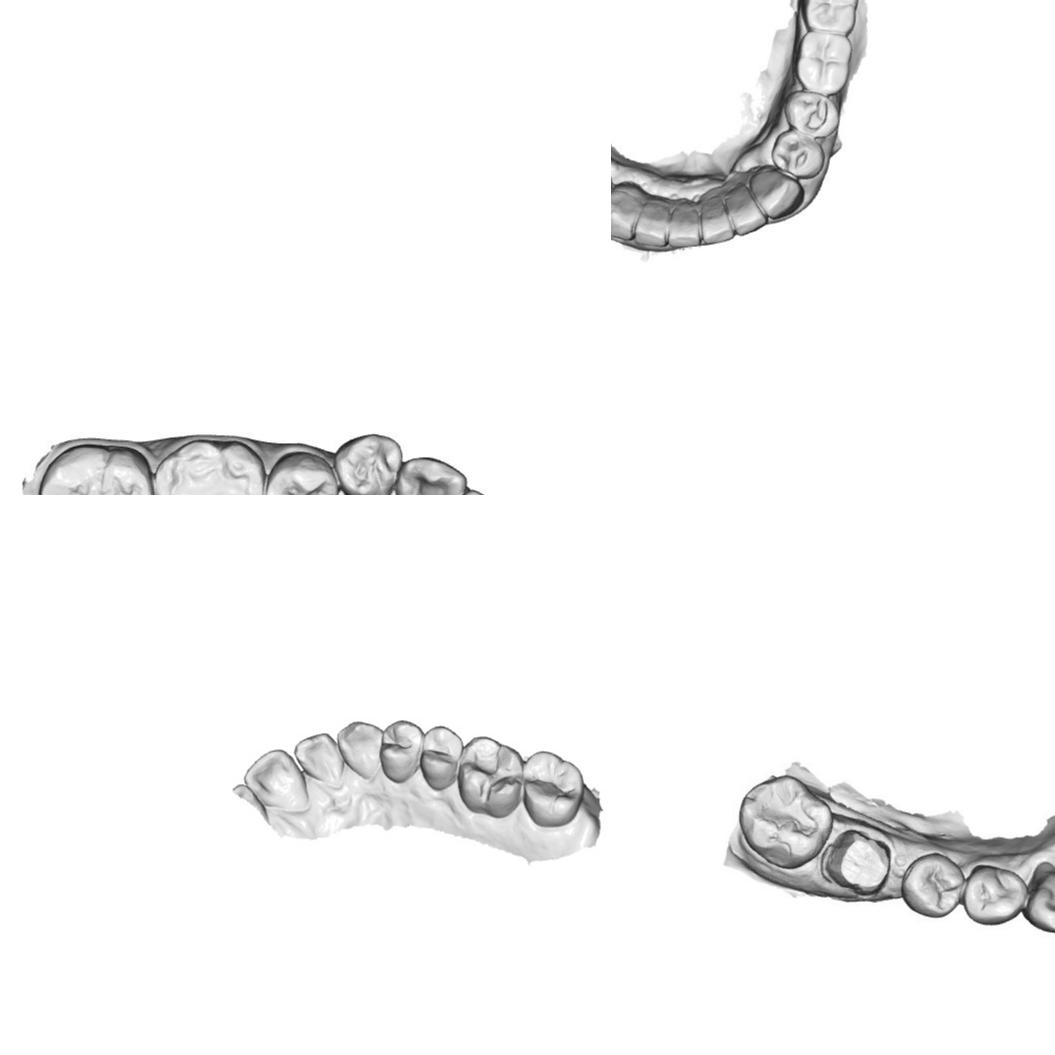canine: (334, 720, 384, 781), (749, 166, 804, 221), (395, 455, 459, 495), (611, 181, 645, 241), (1031, 861, 1055, 939)
crown: (819, 824, 891, 902)
incisor: (242, 746, 310, 812), (292, 732, 342, 786), (725, 186, 768, 236), (665, 199, 705, 251), (699, 192, 735, 246), (633, 199, 670, 249)
molar: (743, 779, 827, 866), (152, 438, 265, 495), (40, 444, 156, 495), (456, 734, 522, 820), (520, 749, 586, 829), (793, 30, 853, 94), (799, 0, 860, 36)
premolar: (336, 429, 404, 495), (903, 848, 961, 920), (965, 862, 1027, 922), (418, 722, 464, 792), (267, 450, 338, 495), (378, 718, 423, 785), (769, 128, 826, 180), (782, 91, 841, 138)
